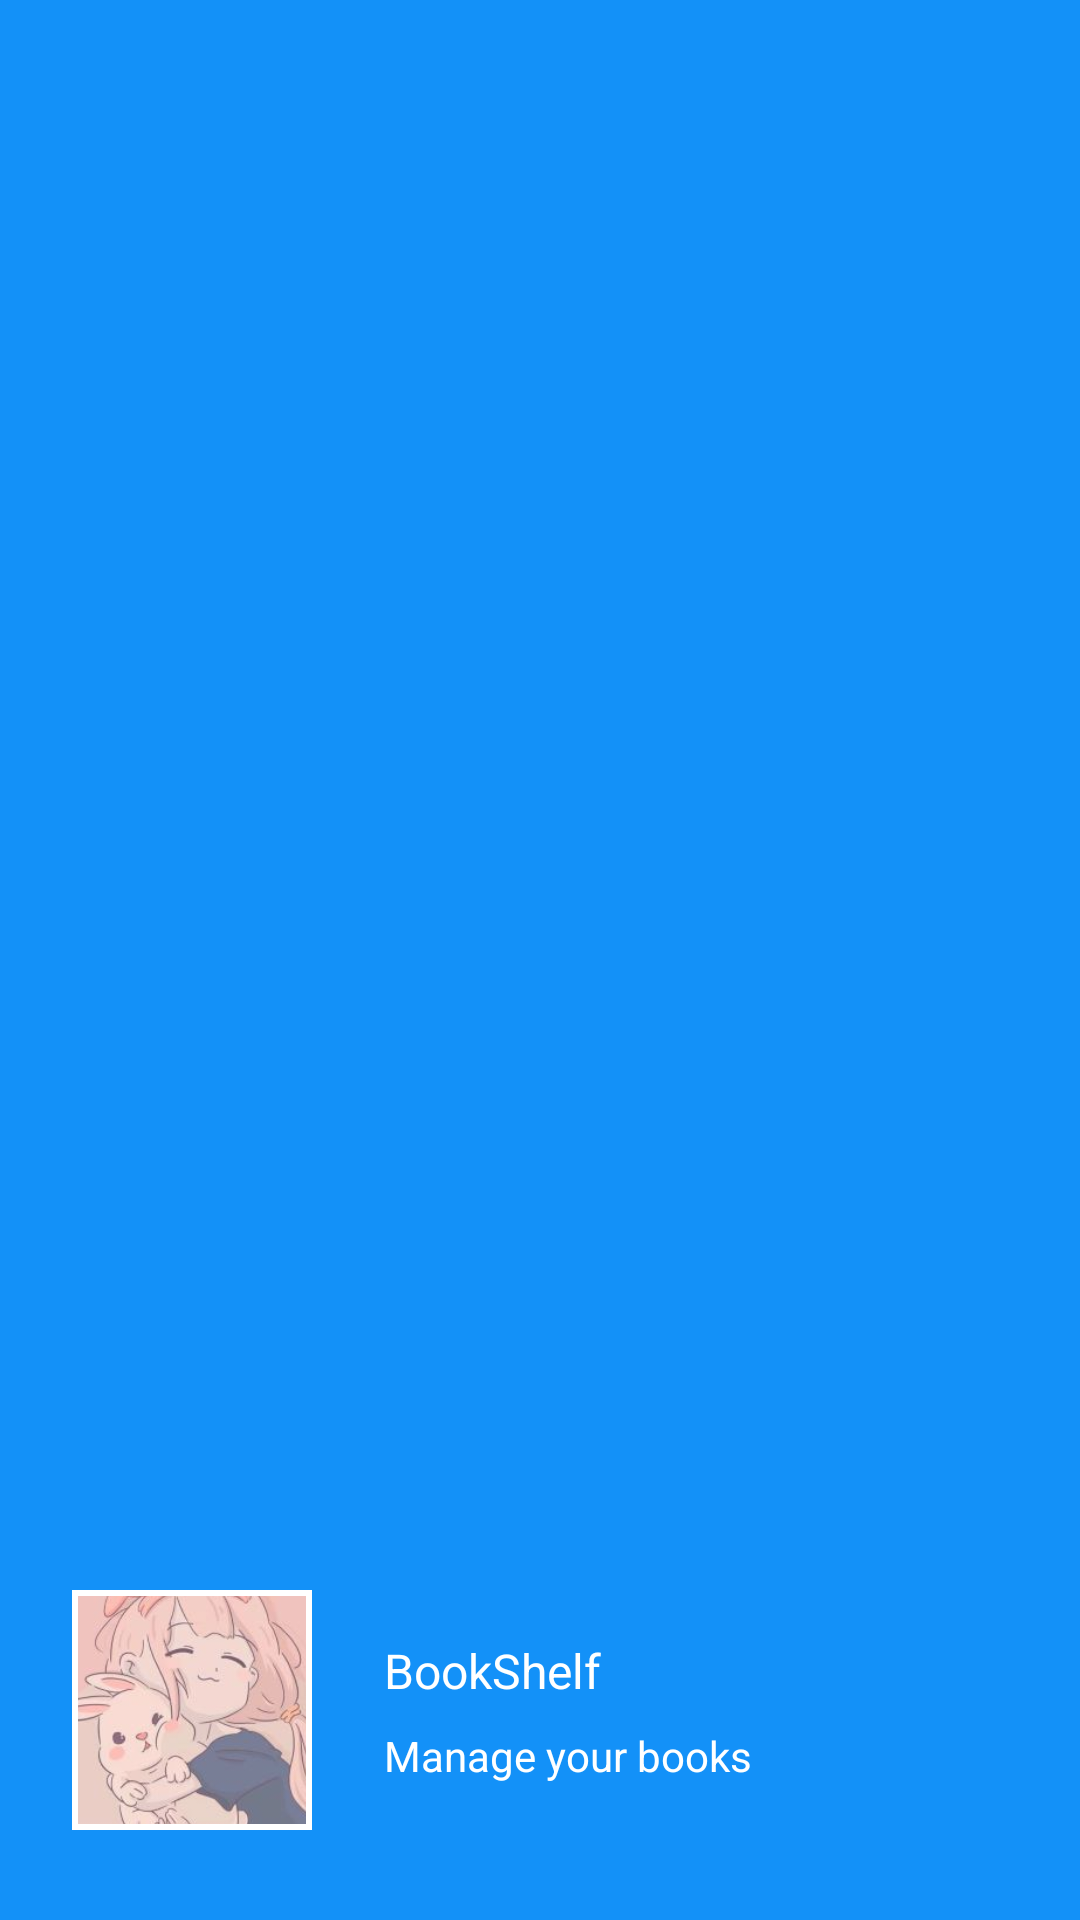

Screen size 1080w x 1920h. Icon name, then its box in pixels as (x1, y1, x2, y2):
myheader: (72, 1590, 312, 1830)
